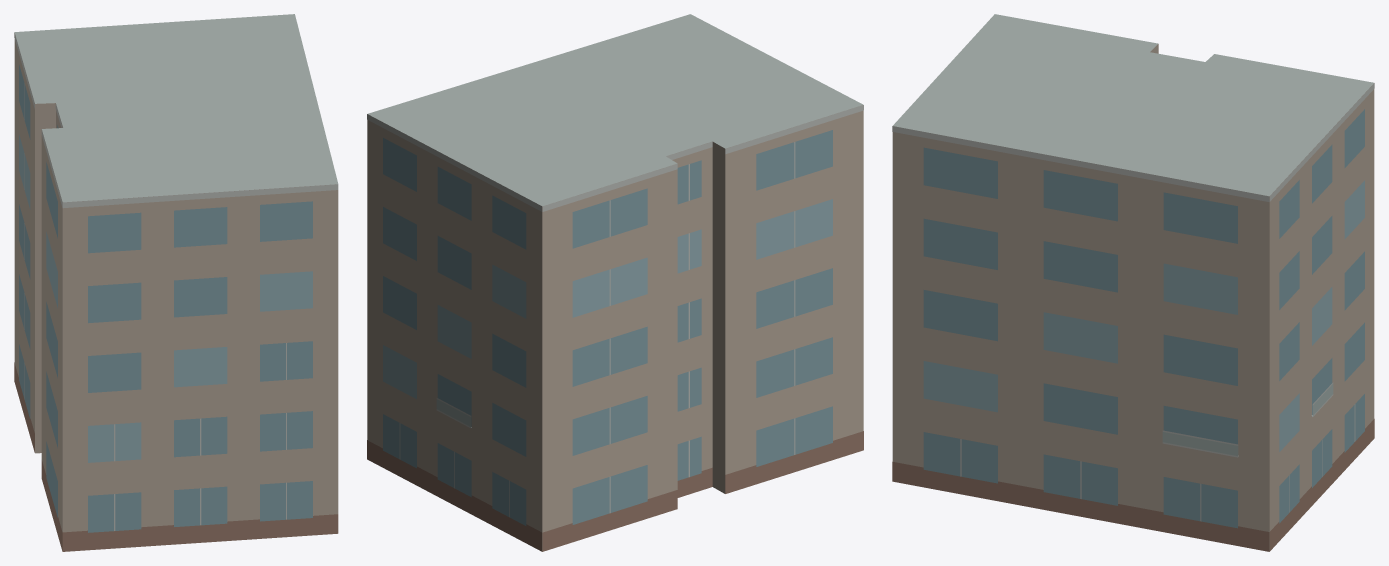
File: survey-upis-32527274.glb
3 renders of one model, left to right at view 1: azimuth 30°, elevation 25°; view 2: azimuth 150°, elevation 25°; view 3: azimuth 270°, elevation 25°, orthographic. The views are drawn at different scales.
Visible parts, largest first — view 1: survey-upis-32527274.tmp; view 2: survey-upis-32527274.tmp; view 3: survey-upis-32527274.tmp.
Boxes of the visible parts, x1,y1,x2,y2 form: survey-upis-32527274.tmp: [14, 14, 338, 551]; survey-upis-32527274.tmp: [367, 14, 863, 551]; survey-upis-32527274.tmp: [892, 14, 1374, 551].
Size of the model in its own units: 16.23 by 14.75 by 18.13.
